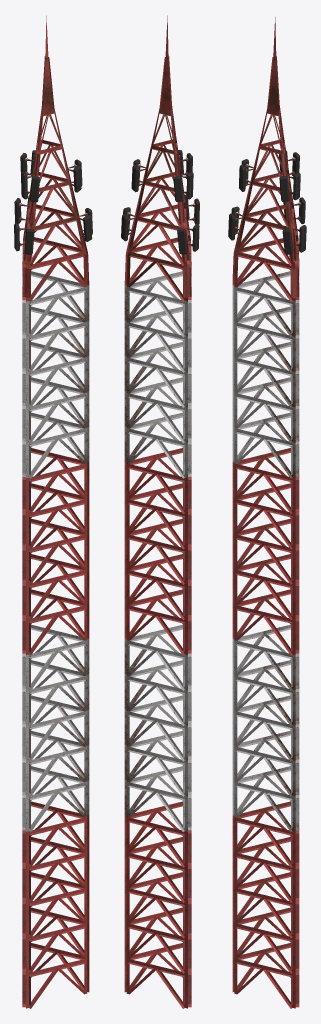
File: base_mast.glb
3 views of the same model, side by side, from view 1: azimuth 30°, elevation 25°; view 2: azimuth 210°, elevation 25°; view 3: azimuth 330°, elevation 25° (orthographic).
Visible parts, largest first — view 1: base_mast; view 2: base_mast; view 3: base_mast.
Part boxes in pixels (left/top/right/bottom): base_mast: left=14, top=15, right=92, bottom=1008; base_mast: left=121, top=15, right=199, bottom=1008; base_mast: left=228, top=17, right=306, bottom=1008.
Size of the model in its own units: 2.44 by 30.48 by 2.21.
Materials: 1 (1 with a texture image).
